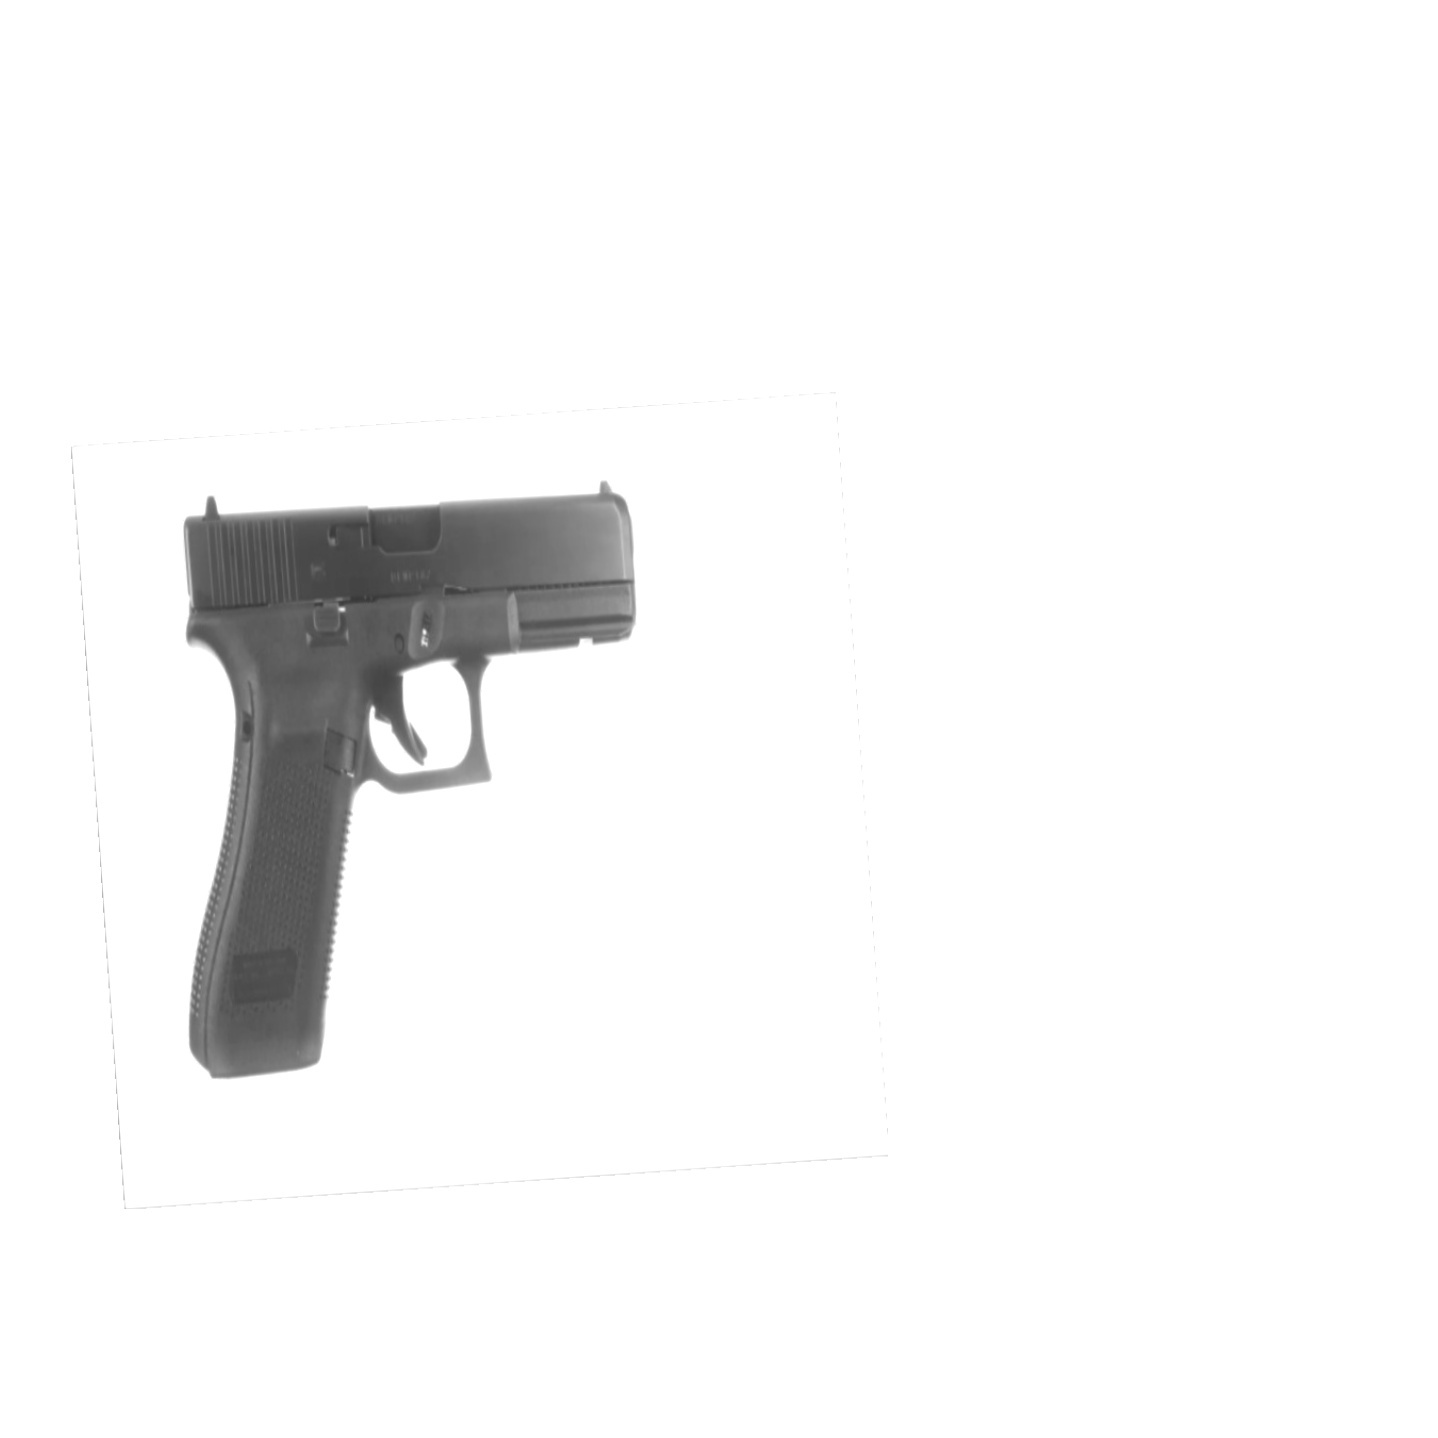gun: (173, 471, 649, 1086)
